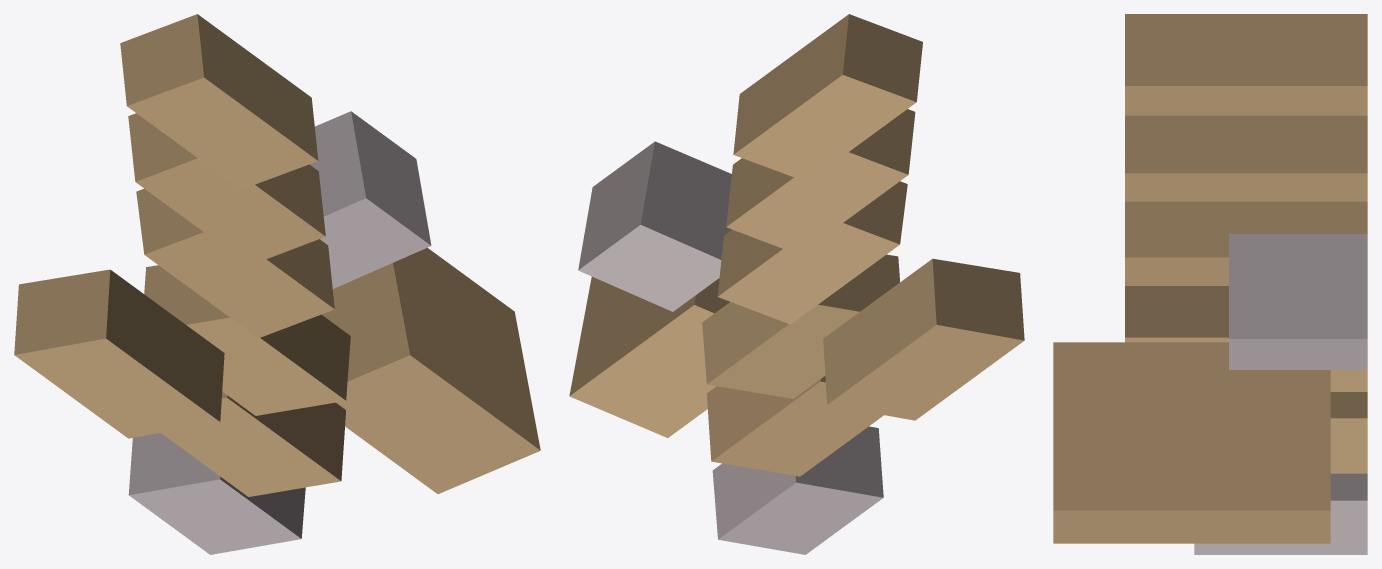
3 renders of one model, left to right at view 1: azimuth 30°, elevation 25°; view 2: azimuth 150°, elevation 25°; view 3: azimuth 270°, elevation 25°, orthographic. The views are drawn at different scales.
Parts seen in each view (by area): view 1: 0_0_3_2_0_0_1_2_0; view 2: 0_0_3_2_0_0_1_2_0; view 3: 0_0_3_2_0_0_1_2_0.
Part boxes in pixels (<box>): 0_0_3_2_0_0_1_2_0: <box>14,14,540,554</box>; 0_0_3_2_0_0_1_2_0: <box>569,14,1024,554</box>; 0_0_3_2_0_0_1_2_0: <box>1053,14,1367,554</box>.
Bounding box in the file's own units: 40.17 × 47.75 × 27.2.
